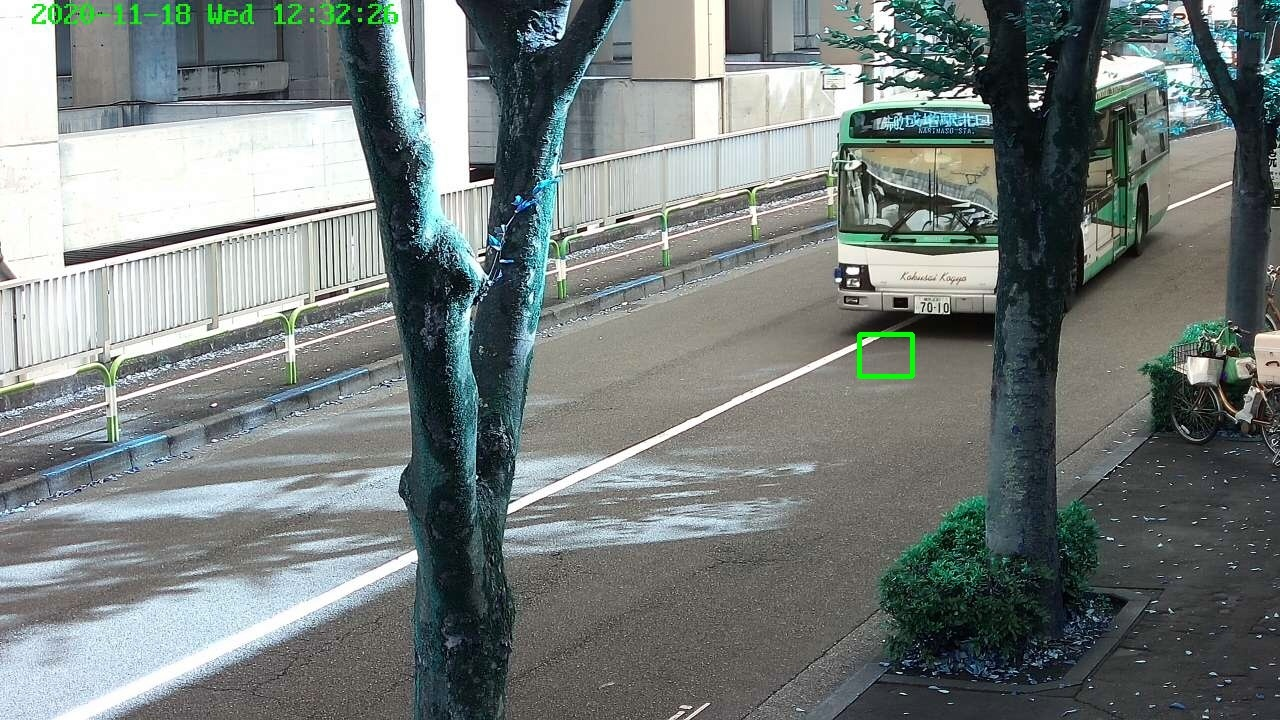number_plate: (915, 294, 953, 314)
